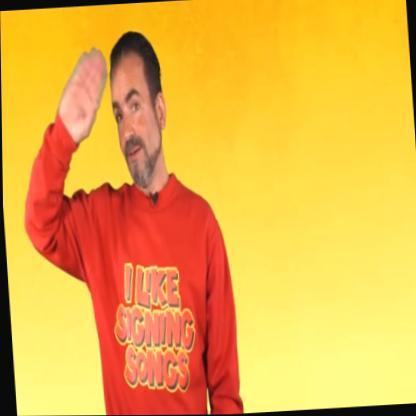Hello: (35, 20, 171, 247)
